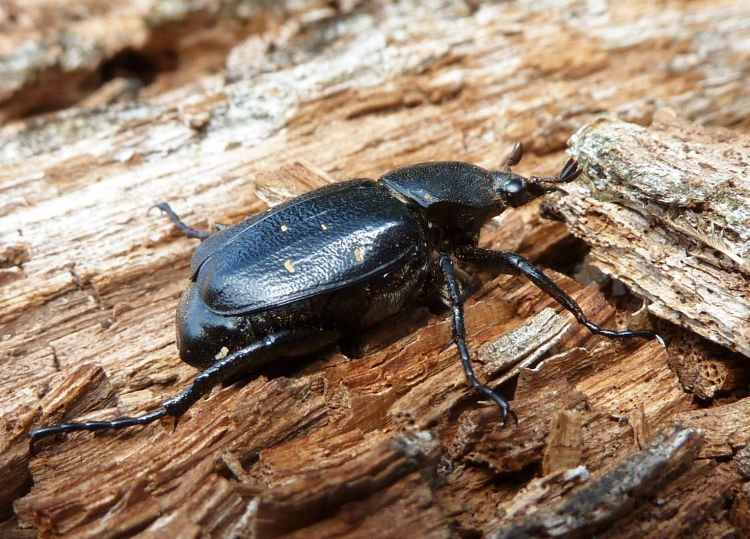Gnorimus_variabilis: (136, 137, 674, 434)
